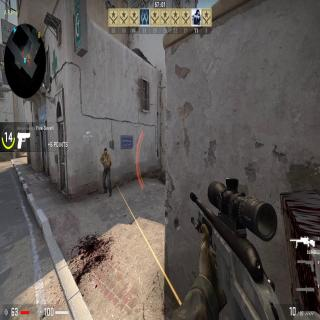T-Body: (100, 148, 112, 196)
T-Head: (104, 148, 107, 155)
